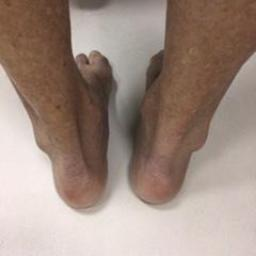Back View -Both Feet-: (4, 44, 237, 218)
